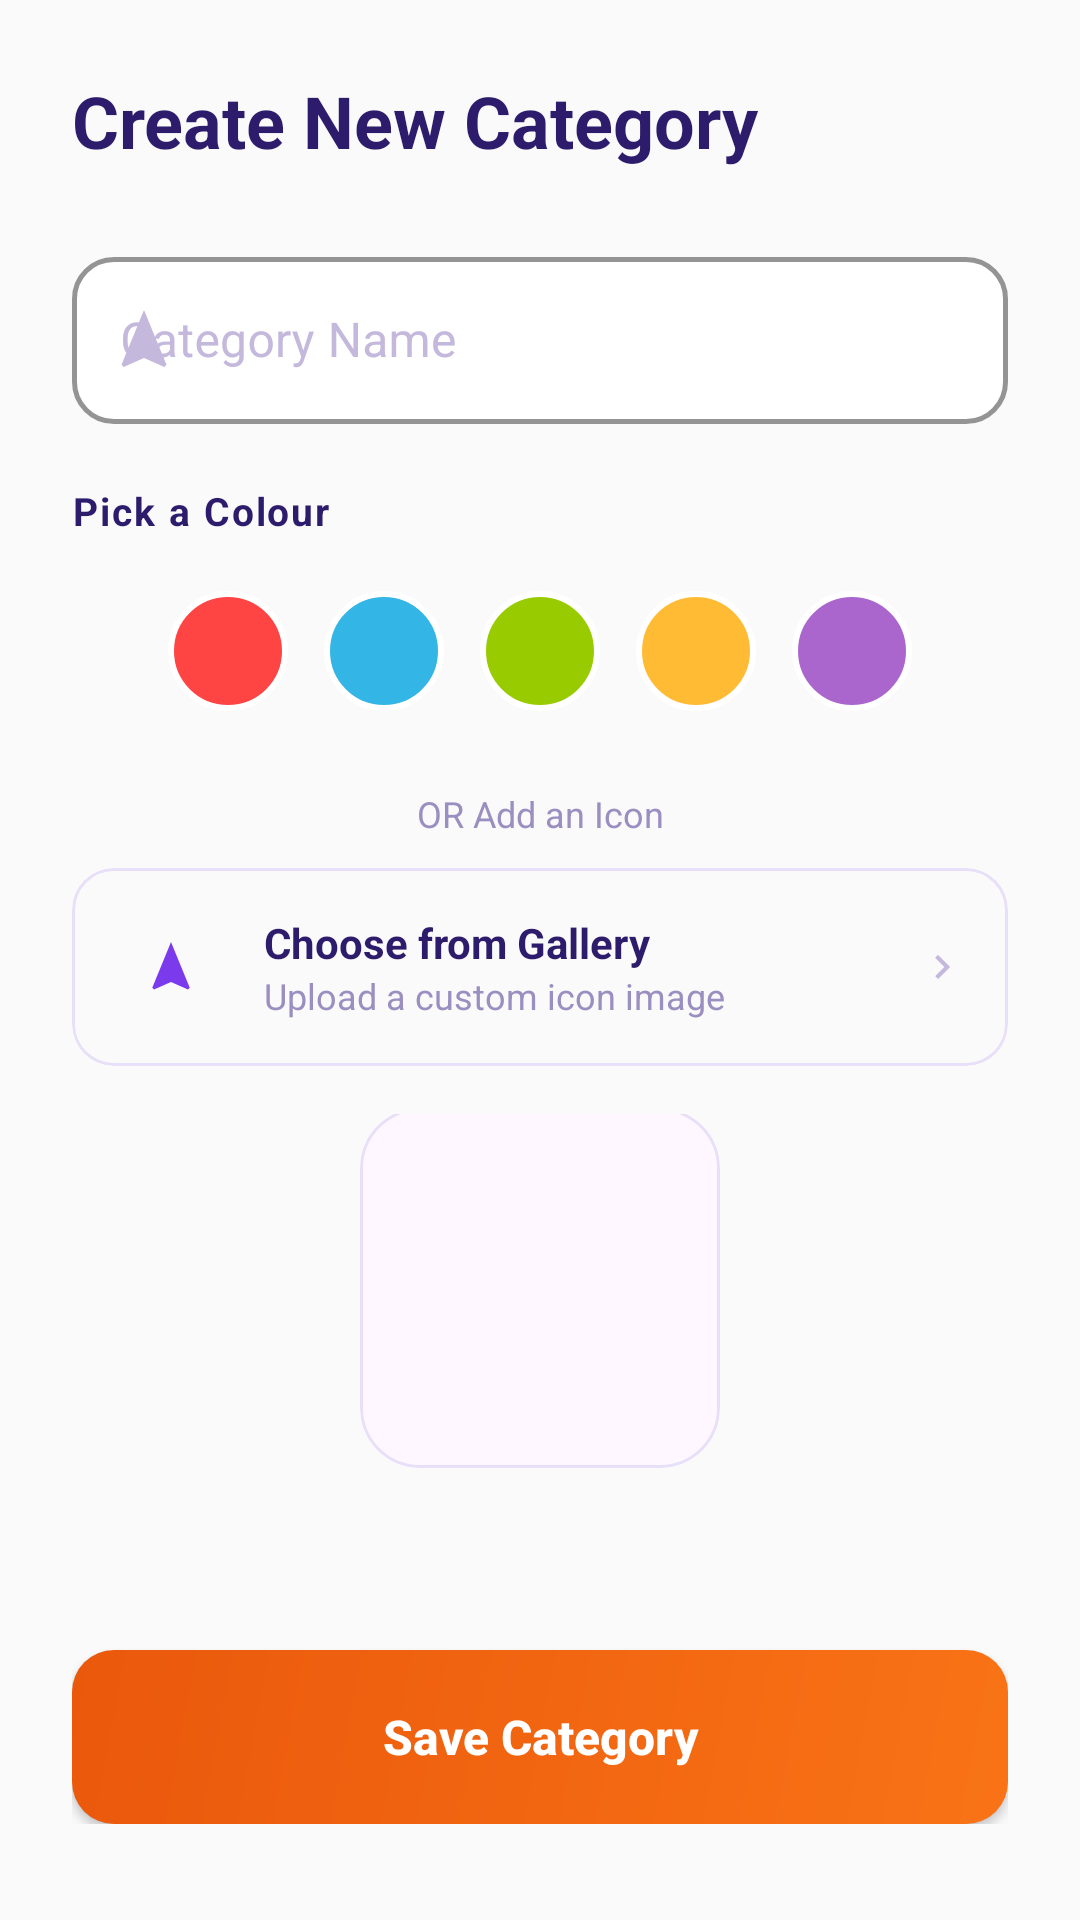

Named icons in this screenshot (1080 × 1920) and their bounding boxes, box(x1, y1, x2, y2):
chevron right: box(935, 955, 950, 979)
